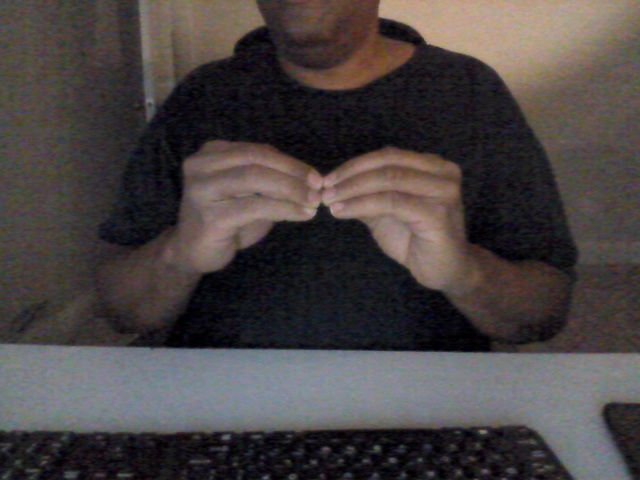more: (172, 136, 473, 291)
